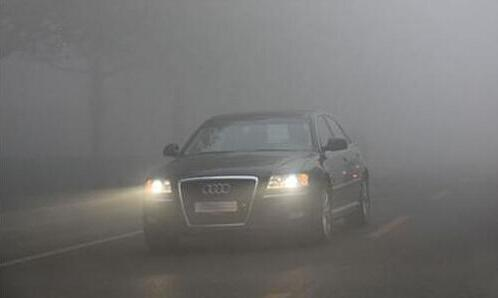car: (136, 109, 372, 253)
